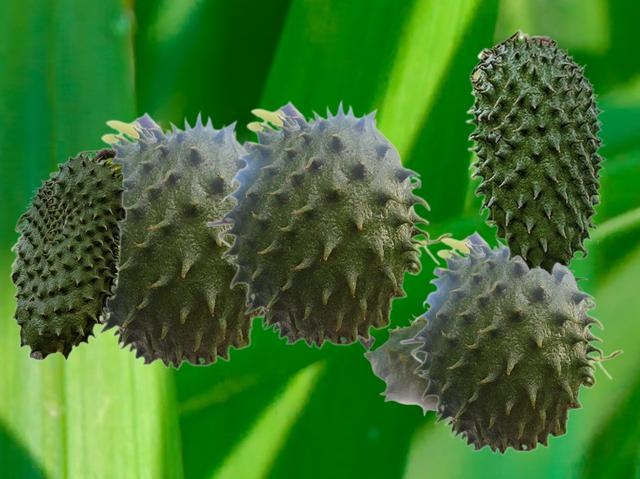guyabano: (205, 98, 452, 349), (399, 230, 623, 455), (99, 109, 261, 370), (359, 269, 592, 425), (465, 28, 606, 275), (9, 147, 127, 360)
